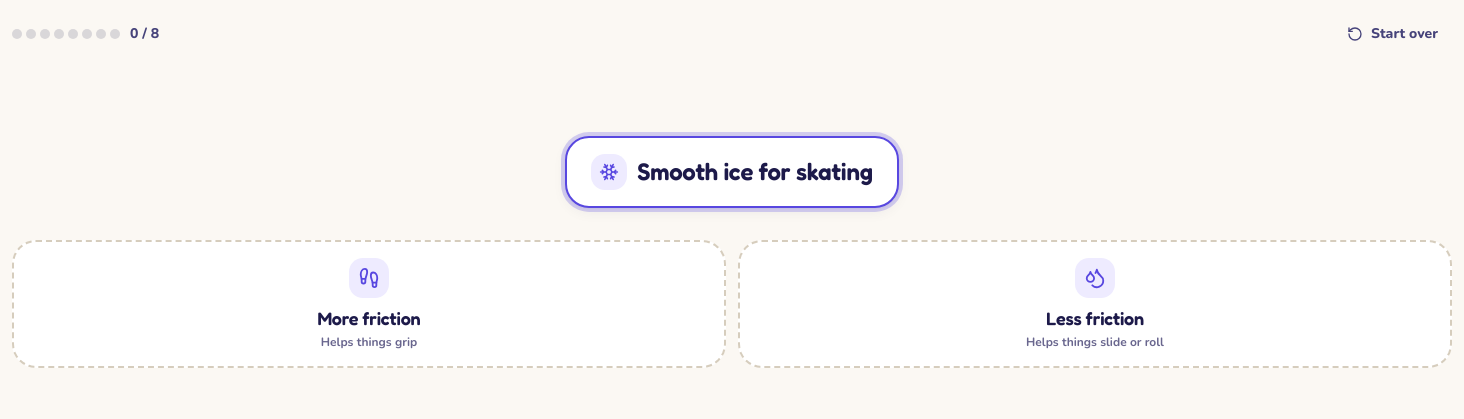
Test: More grip or less friction? (sort game played through the UI) › sorts by tapping (pick the item, then its box, or just tap the box) with short feedback
# Tap to pick the item up, then a wrong box.
What coordinates should you click on to do the following:
click the button "Smooth ice for skating"
I would click on:
 (732, 172)
Its box is [565, 136, 899, 208].
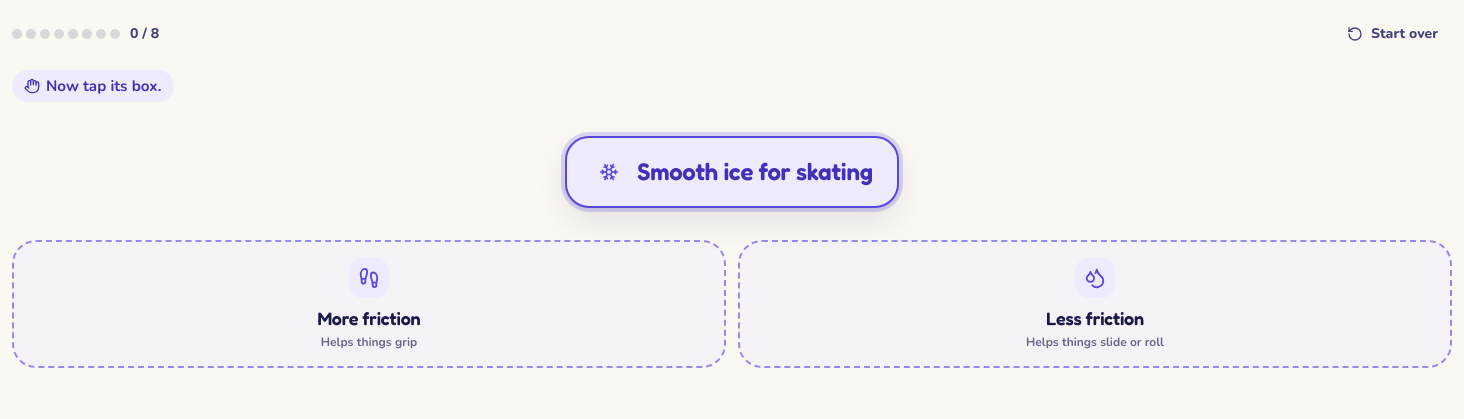
Result: the message reads "Now tap its box." at [46, 76, 162, 96]
What coordinates should you click on to do the following:
click the button "More friction Helps things grip"
I would click on:
 (369, 304)
Its box is [12, 240, 726, 368].
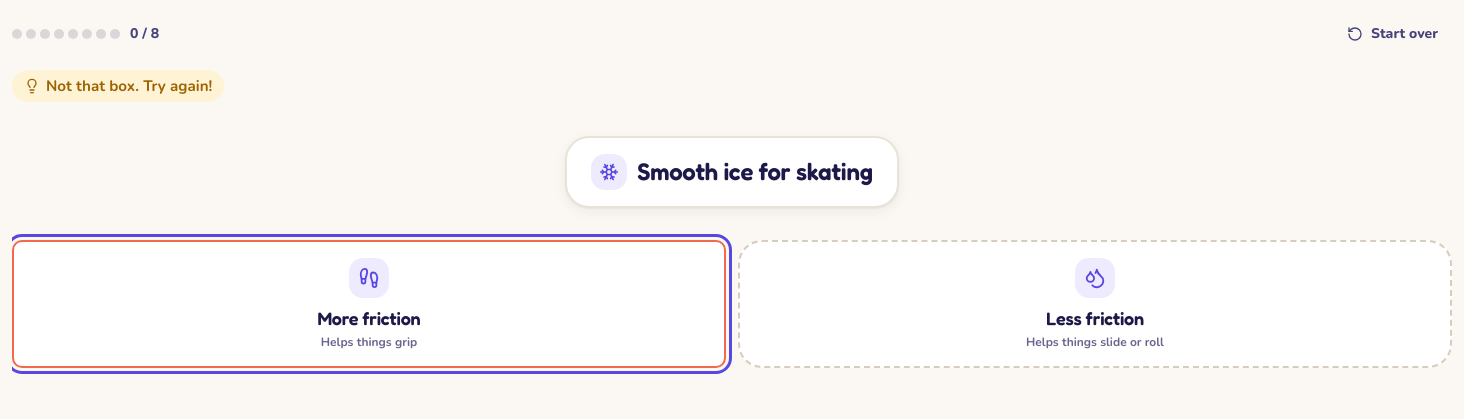
Expected: the message does not show "Smooth ice has very little friction, so skates glide.", [11, 70, 398, 106]
Result: the message reads "Not that box. Try again!" at [46, 76, 212, 96]
# Tapping the right box places the item on show, even without picking it first.
What coordinates should you click on to do the following:
click the button "Less friction Helps things slide or roll"
I would click on:
 (1095, 304)
Its box is [738, 240, 1452, 368].
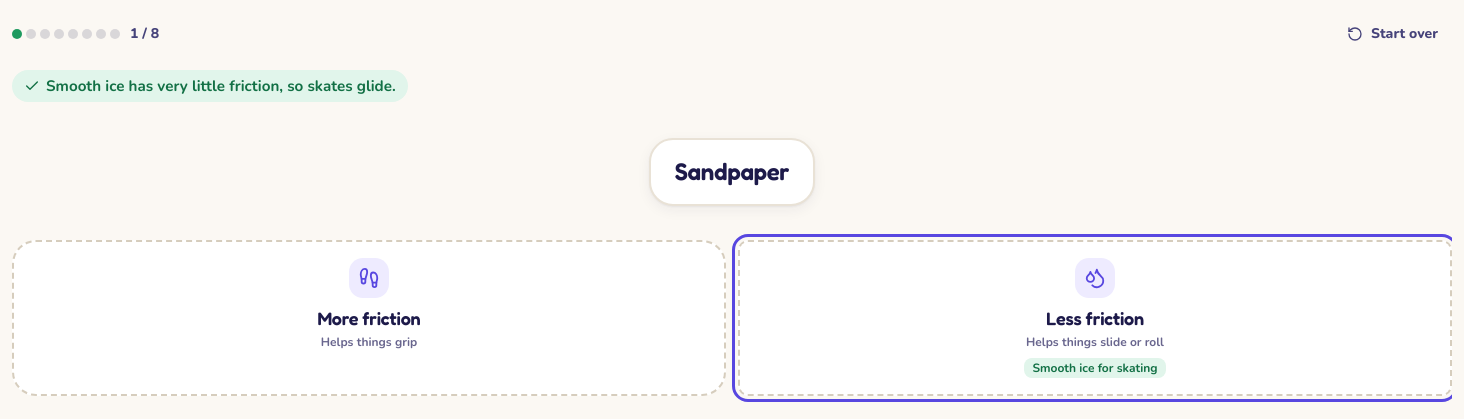
Expected: the text "Smooth ice for skating" is shown, [1024, 358, 1166, 378]
Result: the message reads "Smooth ice has very little friction, so skates glide." at [46, 76, 396, 96]
Result: the text "1 / 8" is shown at [130, 24, 159, 44]
